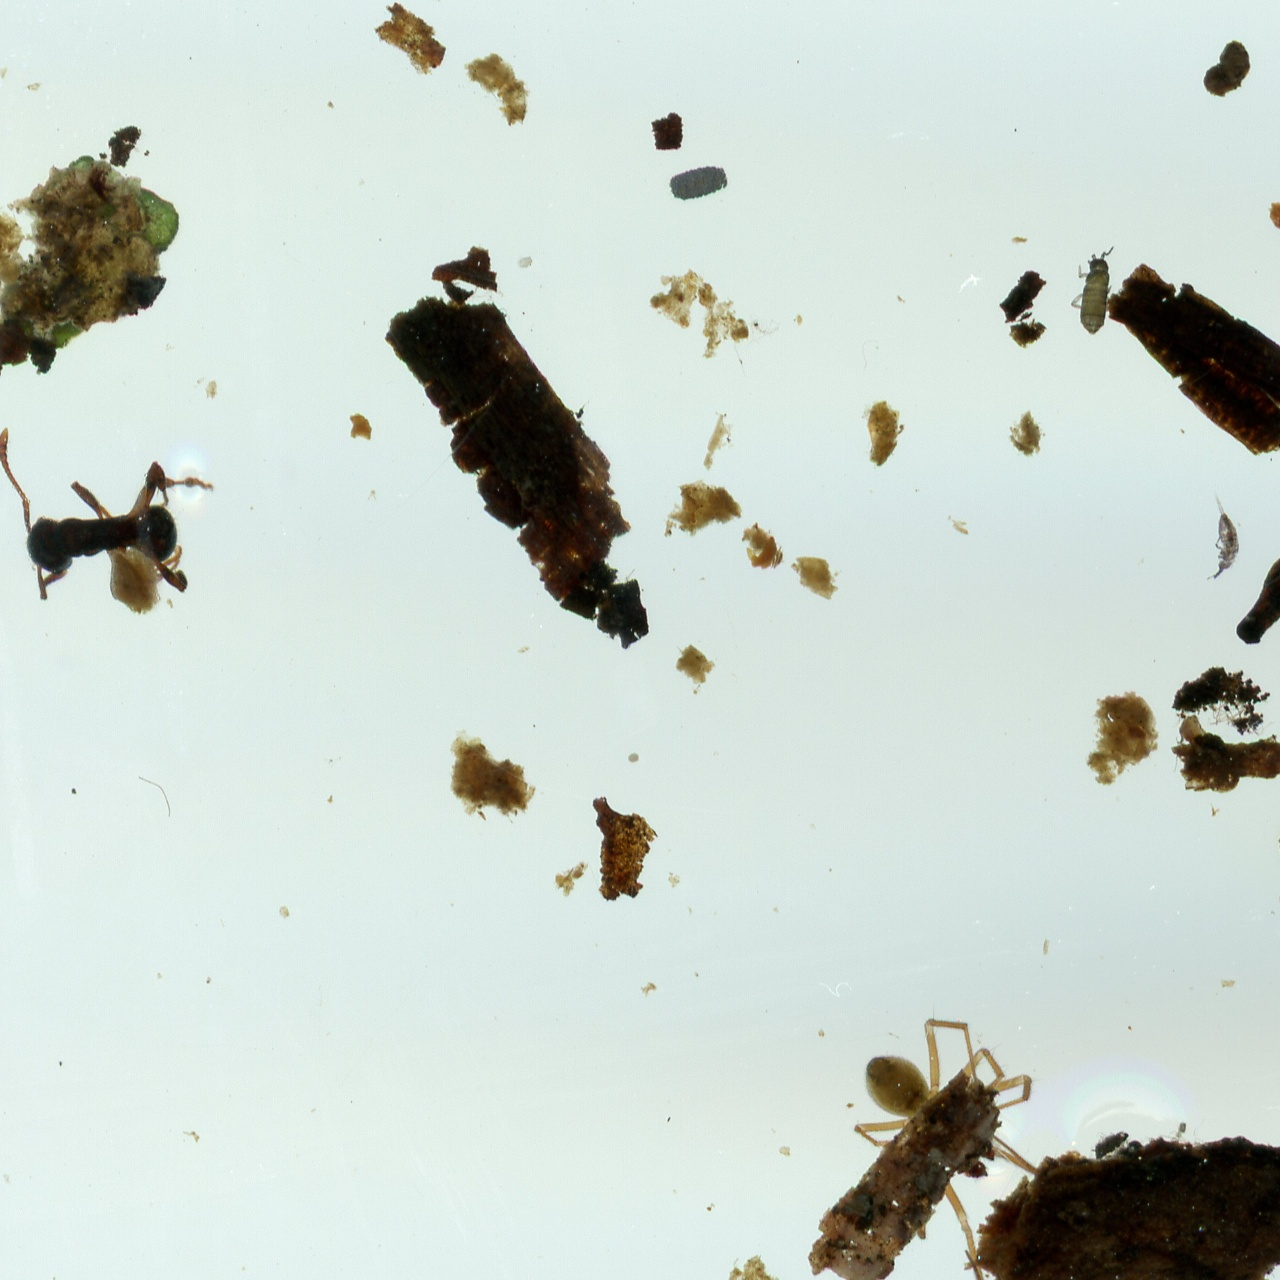arthropod: (785, 979, 1114, 1280), (0, 422, 219, 601), (1202, 487, 1244, 587), (1070, 244, 1115, 336), (662, 155, 736, 209)
